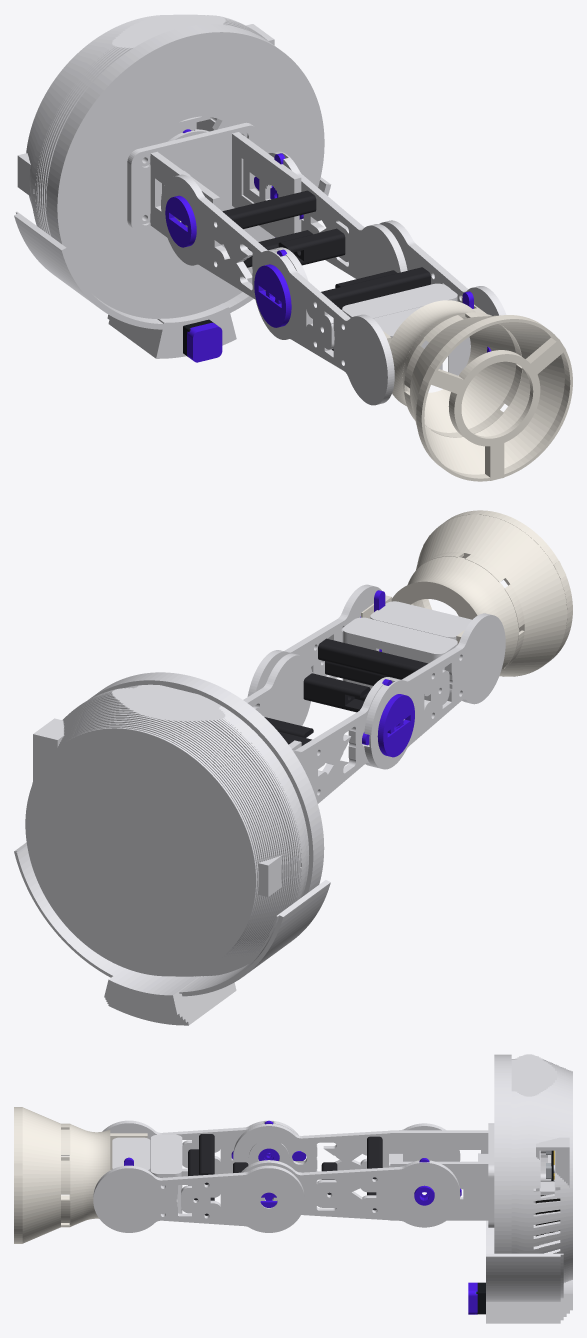
File: hotaru2-assembled.glb
The picture shows the model from 3 angles, top to bottom: view 1: azimuth 30°, elevation 25°; view 2: azimuth 150°, elevation 25°; view 3: azimuth 270°, elevation 25°; orthographic projection. The views are drawn at different scales.
Parts seen in each view (by area): view 1: v2-disc, shade, v2-tub, v2-tower, v2-link2-in, v2-link1-out, v2-link1-in, v2-head, v2-link1-spacers, v2-link2-out, v2-link2-spacers, v2-link1-ledges (+3 smaller); view 2: v2-tub, shade, v2-link2-in, v2-disc, v2-head, v2-link1-out, v2-link2-spacers, v2-link1-in, v2-link2-out, v2-link1-ledges, v2-trimcap; view 3: v2-tub, v2-link2-out, shade, v2-link1-in, v2-tower, v2-link1-out, v2-disc, v2-head, v2-link2-in, v2-link2-spacers, v2-link1-spacers, horn-shoulder (+1 smaller).
Boxes of the visible parts, bbox=[...] form: v2-disc: bbox=[46, 24, 324, 318]; shade: bbox=[383, 296, 572, 481]; v2-tub: bbox=[14, 14, 331, 358]; v2-tower: bbox=[127, 122, 301, 237]; v2-link2-in: bbox=[253, 249, 394, 405]; v2-link1-out: bbox=[161, 174, 308, 298]; v2-link1-in: bbox=[257, 151, 407, 279]; v2-head: bbox=[342, 283, 470, 375]; v2-link1-spacers: bbox=[222, 190, 316, 267]; v2-link2-out: bbox=[379, 220, 506, 315]; v2-link2-spacers: bbox=[321, 267, 430, 350]; v2-link1-ledges: bbox=[278, 228, 397, 287]; v2-tub: bbox=[14, 684, 330, 1025]; shade: bbox=[361, 510, 572, 676]; v2-link2-in: bbox=[364, 613, 505, 769]; v2-disc: bbox=[88, 672, 324, 896]; v2-head: bbox=[342, 601, 471, 688]; v2-link1-out: bbox=[292, 677, 395, 803]; v2-link2-spacers: bbox=[318, 638, 427, 700]; v2-link1-in: bbox=[243, 653, 312, 725]; v2-link2-out: bbox=[247, 584, 381, 696]; v2-link1-ledges: bbox=[264, 673, 370, 737]; v2-trimcap: bbox=[377, 694, 414, 757]; v2-tub: bbox=[486, 1054, 572, 1323]; v2-link2-out: bbox=[93, 1165, 304, 1232]; shade: bbox=[14, 1107, 147, 1243]; v2-link1-in: bbox=[241, 1160, 460, 1227]; v2-tower: bbox=[389, 1123, 494, 1227]; v2-link1-out: bbox=[233, 1123, 460, 1172]; v2-disc: bbox=[494, 1054, 511, 1253]; v2-head: bbox=[112, 1134, 182, 1214]; v2-link2-in: bbox=[102, 1120, 304, 1176]; v2-link2-spacers: bbox=[188, 1134, 214, 1215]; v2-link1-spacers: bbox=[367, 1136, 382, 1210]; horn-shoulder: bbox=[414, 1158, 461, 1205].
Bounding box in the file's own units: 157 × 175 × 360.
